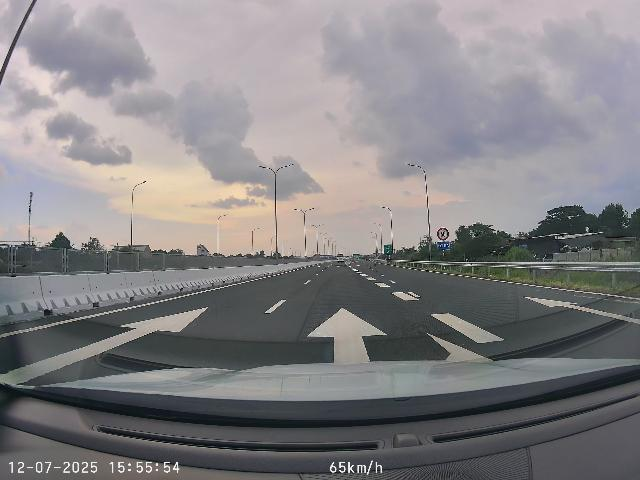127-toc-do-toi-da-60: (437, 227, 449, 241)
